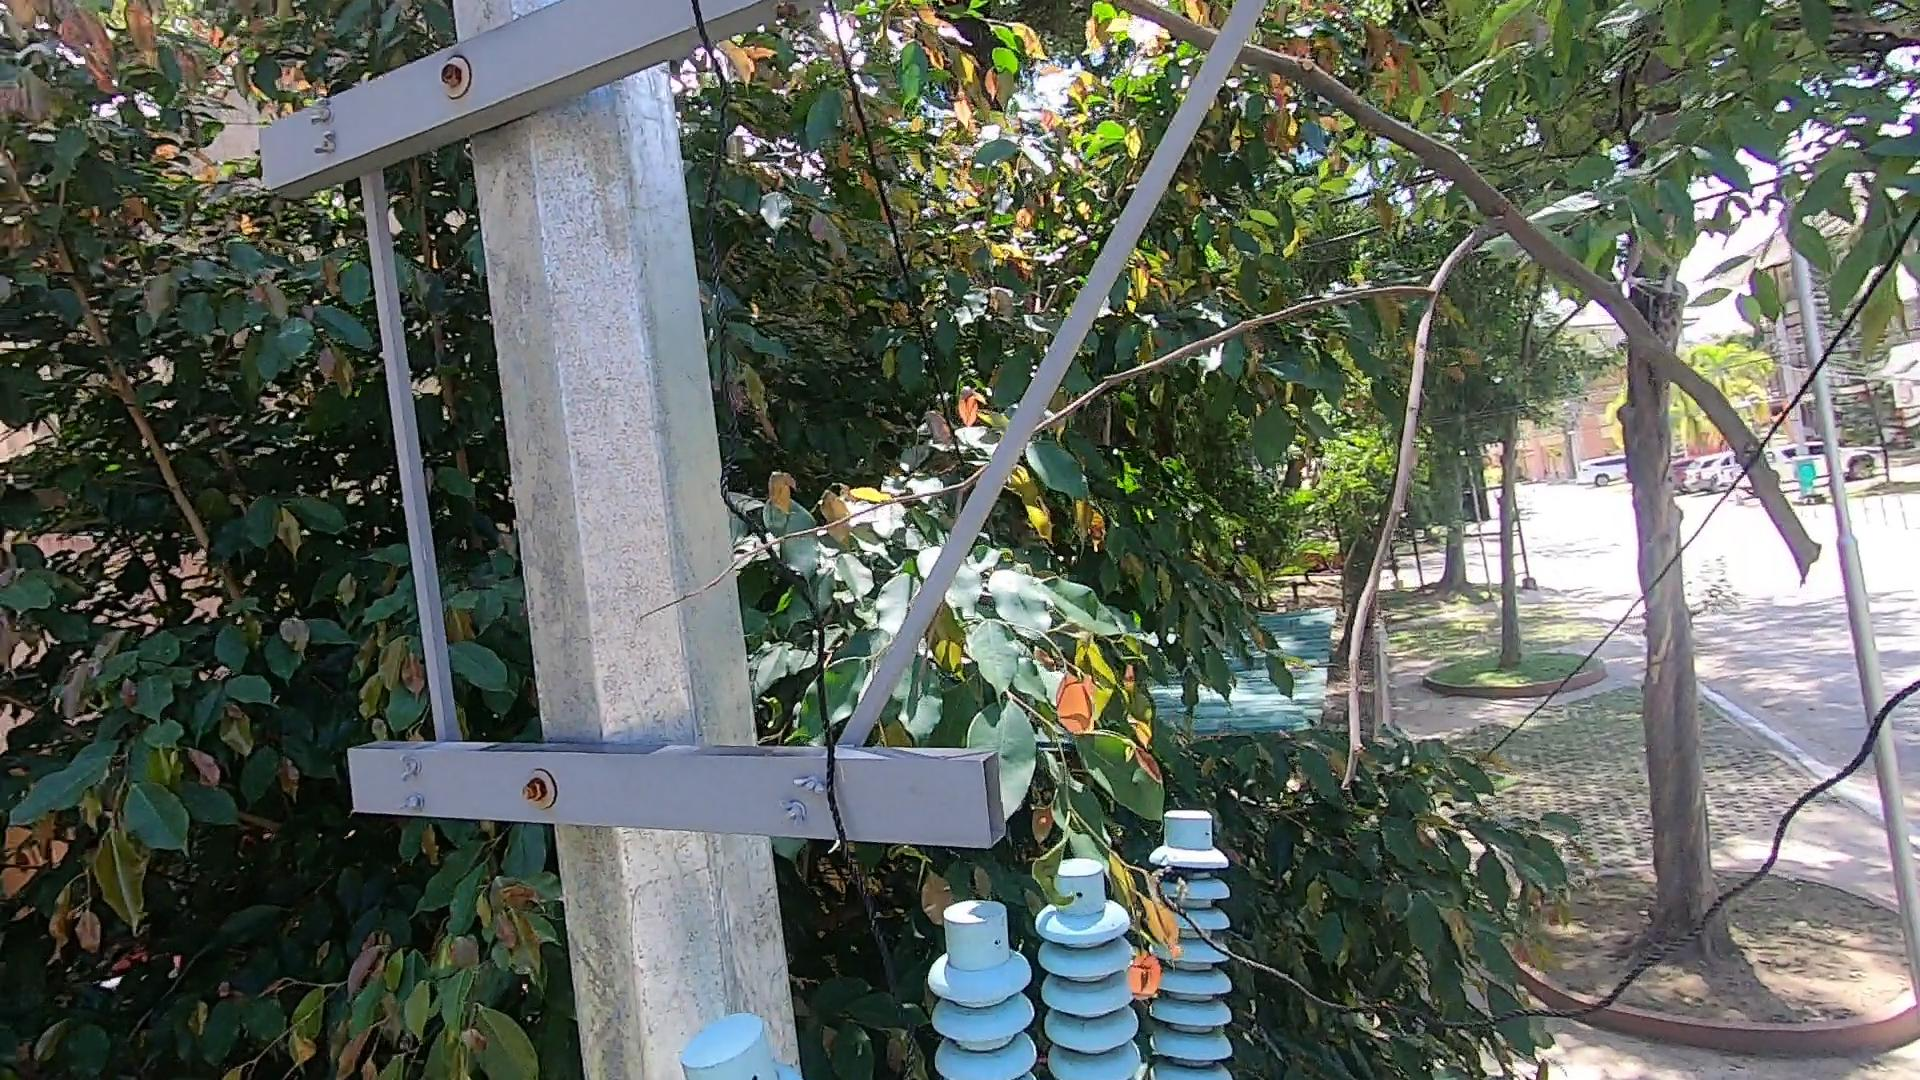branch with leaves: (1072, 855, 1178, 990)
tree branch: (1055, 1, 1837, 576)
